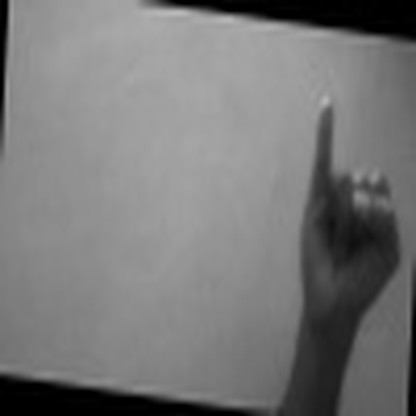i: (287, 93, 407, 348)
